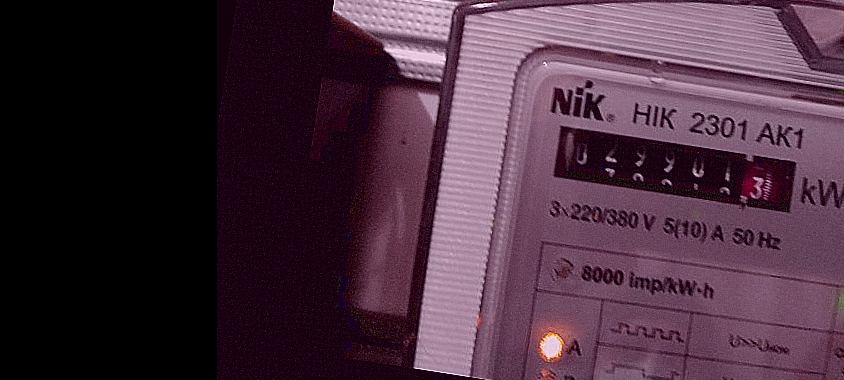0: (570, 136, 592, 166), (688, 149, 709, 180)
1: (719, 153, 737, 182)
2: (601, 135, 623, 164)
3: (746, 172, 767, 200)
9: (630, 140, 650, 169), (661, 145, 678, 174)
screen: (542, 113, 810, 224)
